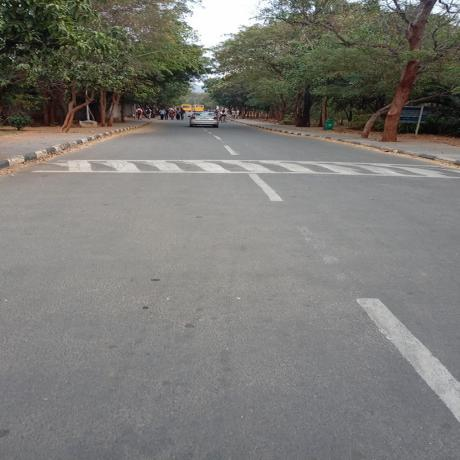Speed Bump: (16, 158, 454, 174)
